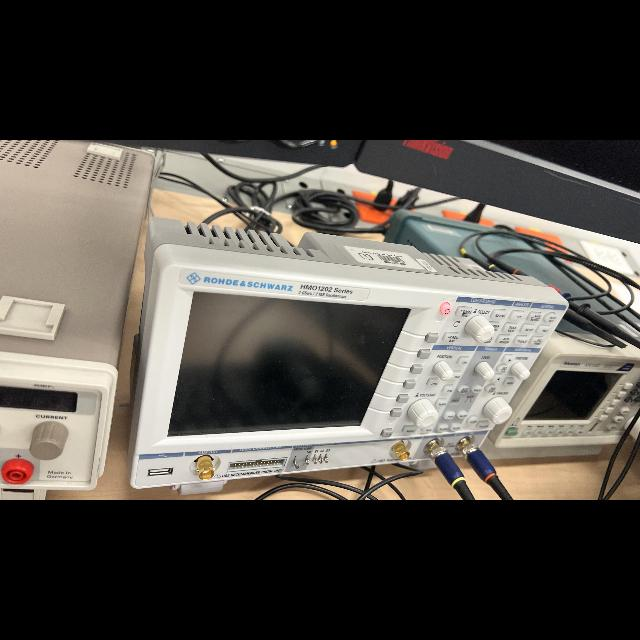Digital-Oscilloscope: (128, 217, 567, 491)
